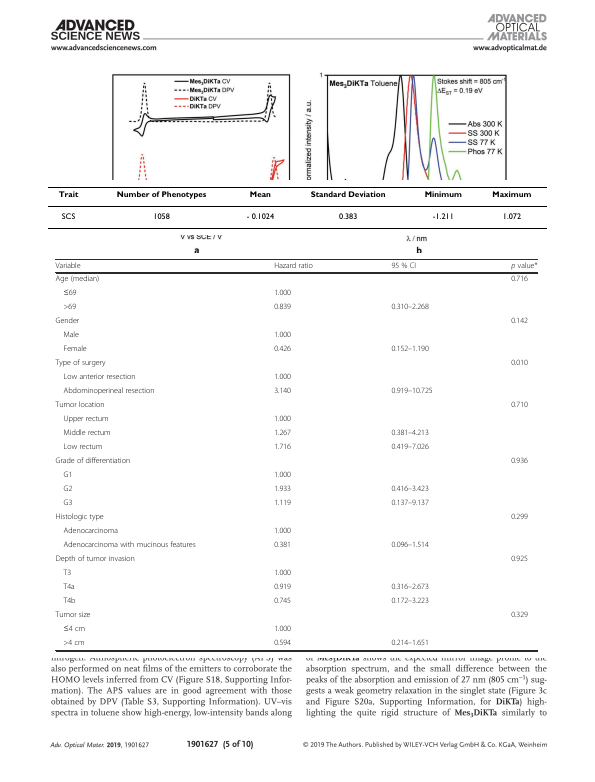borderless: (54, 258, 537, 650), (47, 185, 547, 228)
cell: (62, 541, 196, 551), (62, 387, 155, 397), (115, 190, 207, 199), (54, 555, 136, 565), (54, 457, 131, 467), (62, 373, 136, 383), (309, 190, 386, 199), (62, 527, 119, 537), (55, 359, 106, 369), (54, 513, 105, 523), (55, 401, 105, 411), (62, 429, 112, 439), (62, 415, 109, 425), (55, 275, 100, 285), (390, 387, 433, 397), (62, 443, 103, 453), (390, 303, 430, 313), (390, 345, 430, 355), (390, 429, 430, 439), (390, 443, 430, 453), (390, 485, 430, 495), (390, 499, 430, 509), (390, 541, 430, 551), (390, 583, 430, 593), (390, 597, 430, 607), (390, 639, 430, 649), (54, 611, 91, 621), (491, 190, 532, 199), (273, 262, 314, 271), (423, 190, 462, 199), (62, 345, 88, 355), (510, 262, 538, 271), (55, 317, 80, 327), (390, 262, 417, 271), (245, 212, 275, 220), (62, 625, 86, 635), (55, 262, 81, 271), (62, 639, 85, 649), (248, 190, 271, 199), (57, 190, 79, 199), (510, 275, 529, 285), (273, 289, 292, 299), (273, 303, 292, 313), (510, 317, 529, 327), (273, 331, 292, 341), (273, 345, 292, 355), (510, 359, 529, 369), (273, 373, 292, 383), (273, 387, 292, 397), (510, 401, 529, 411), (273, 415, 292, 425), (273, 429, 292, 439), (273, 443, 292, 453), (510, 457, 529, 467), (273, 471, 292, 481), (273, 485, 292, 495), (273, 499, 292, 509), (510, 513, 529, 523), (273, 527, 292, 537), (273, 541, 292, 551), (510, 555, 529, 565), (273, 569, 292, 579), (273, 583, 292, 593), (273, 597, 292, 607), (510, 611, 529, 621), (273, 625, 292, 635), (273, 639, 292, 649), (431, 212, 454, 220), (62, 331, 80, 341), (501, 212, 522, 220), (338, 212, 358, 220), (62, 289, 77, 299), (62, 303, 77, 313), (152, 212, 170, 220), (62, 583, 76, 593), (62, 597, 76, 607), (60, 212, 76, 220), (62, 471, 73, 481), (62, 485, 73, 495), (62, 499, 73, 509), (62, 569, 72, 579)
